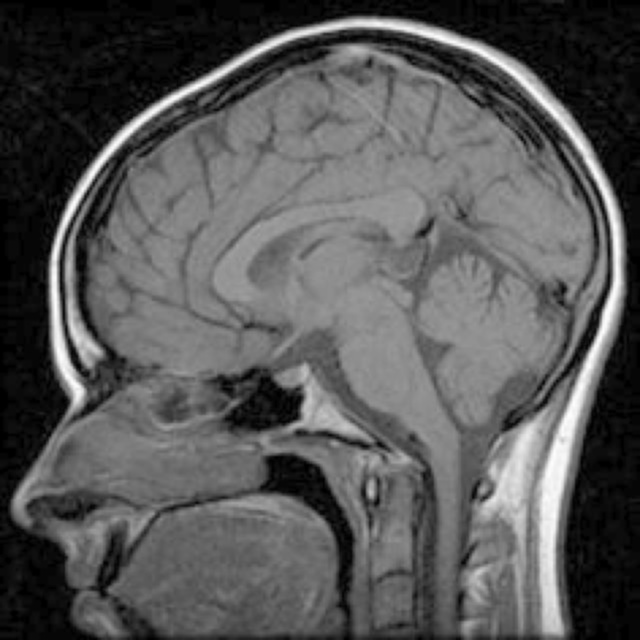glioma tumor: (141, 124, 532, 624)
